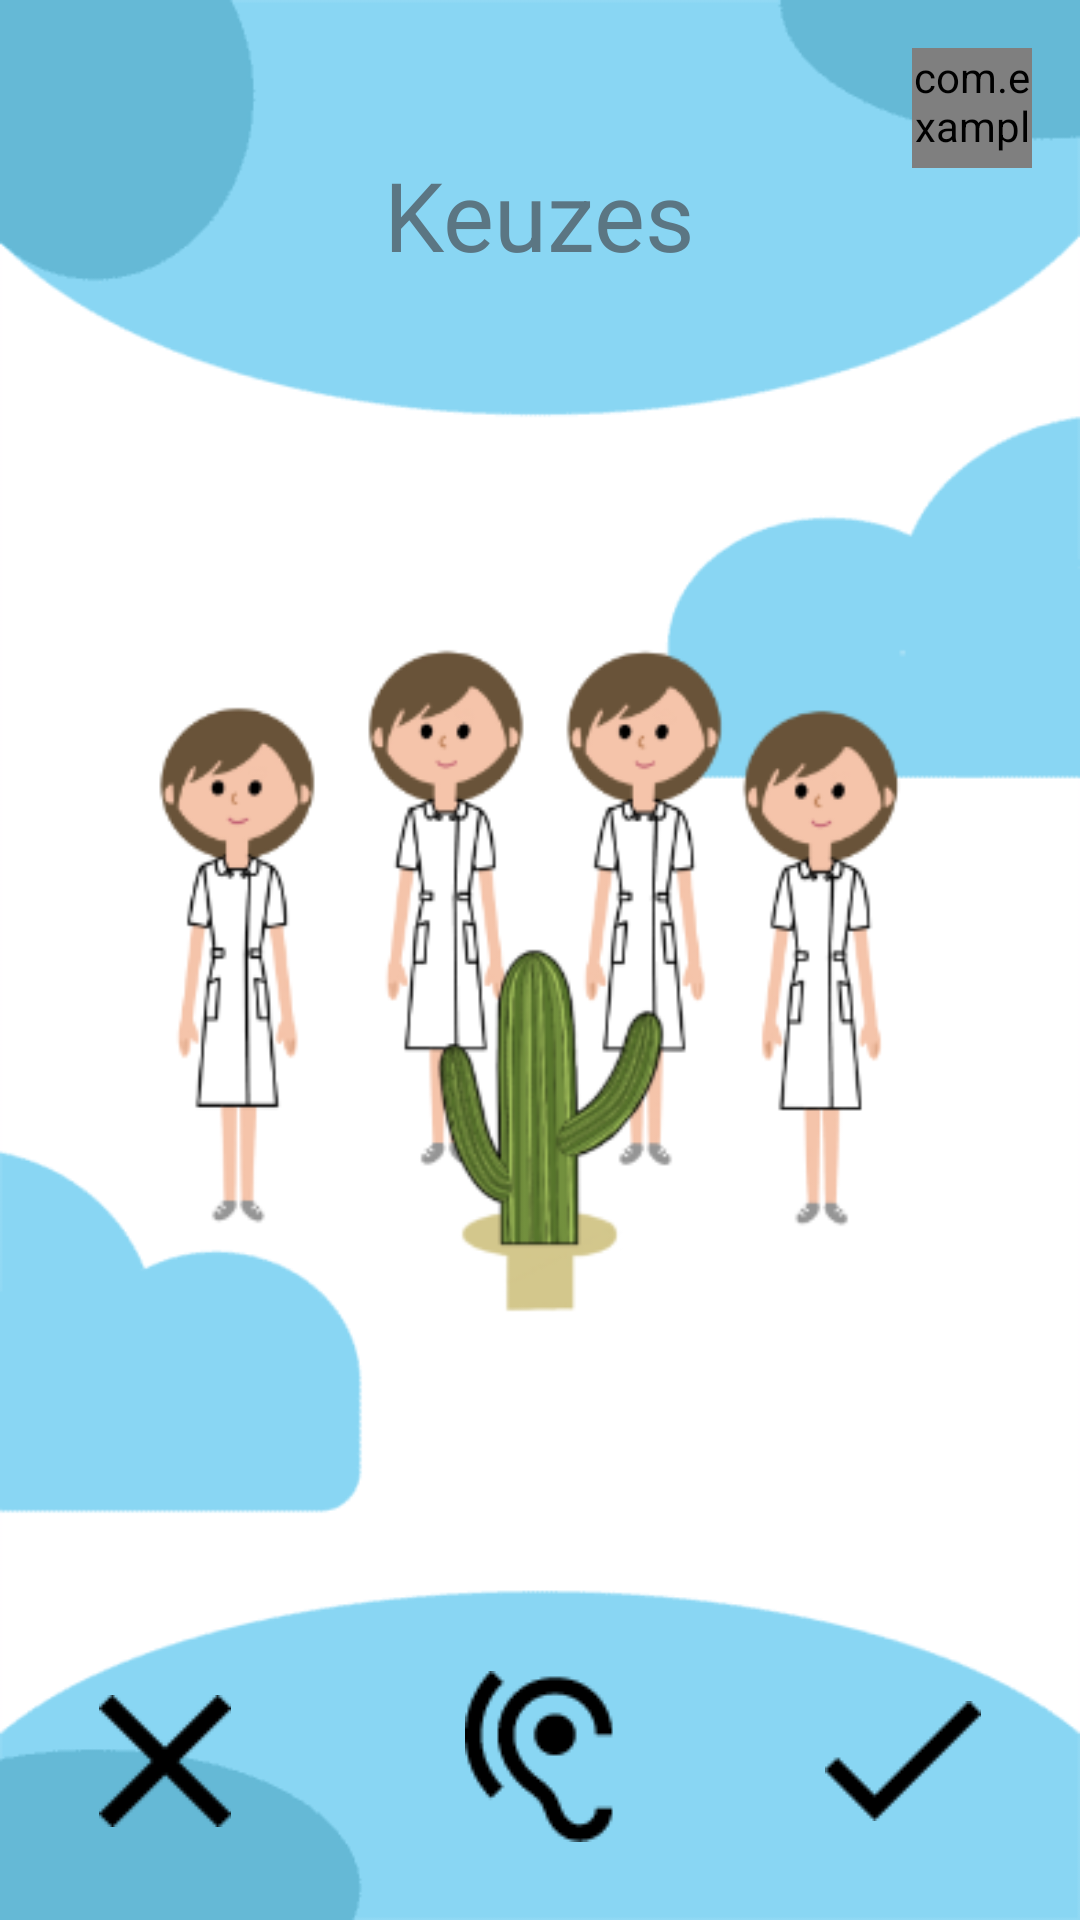

Named icons in this screenshot (1080x1920) and their centers, [x,y]:
checkmark: [903,1761]
cross: [165,1761]
pictogram oortje: [539,1756]
